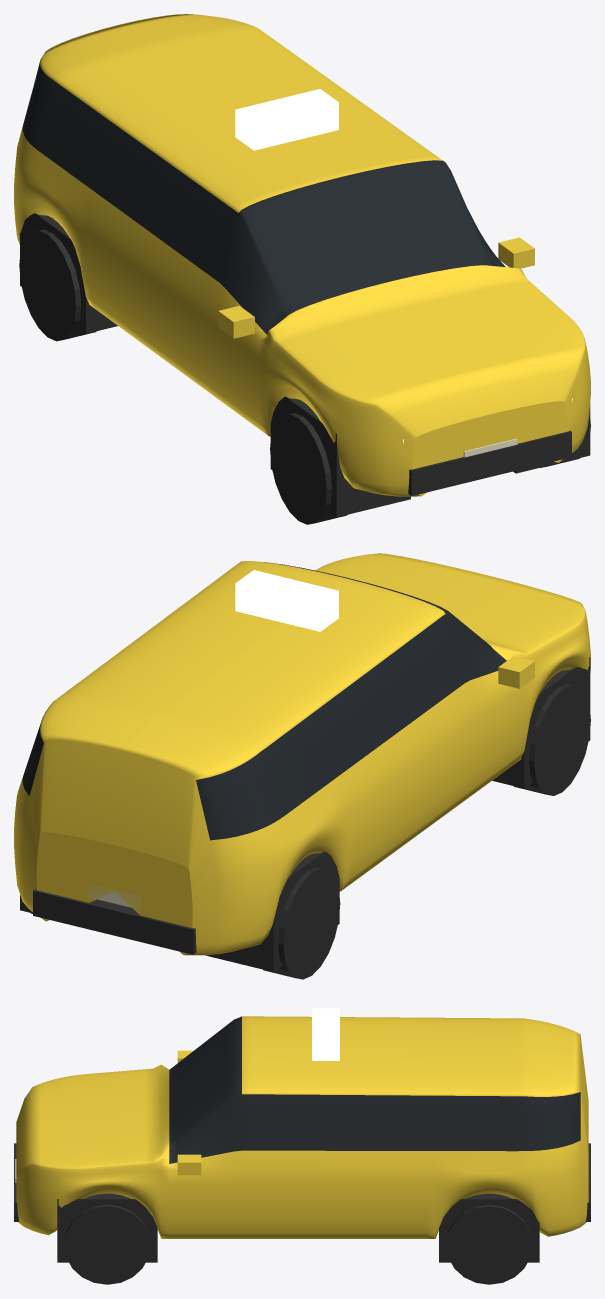
Rendered from taxi_suv.gltf.
The picture shows the model from 3 angles, top to bottom: view 1: azimuth 30°, elevation 25°; view 2: azimuth 150°, elevation 25°; view 3: azimuth 270°, elevation 25°; orthographic projection. The views are drawn at different scales.
Visible parts, largest first — view 1: carro; view 2: carro; view 3: carro.
Boxes of the visible parts, bbox=[...] form: carro: bbox=[14, 14, 590, 524]; carro: bbox=[14, 553, 590, 979]; carro: bbox=[14, 1008, 590, 1284].
Bounding box in the file's own units: 2.27 × 2 × 4.94.
